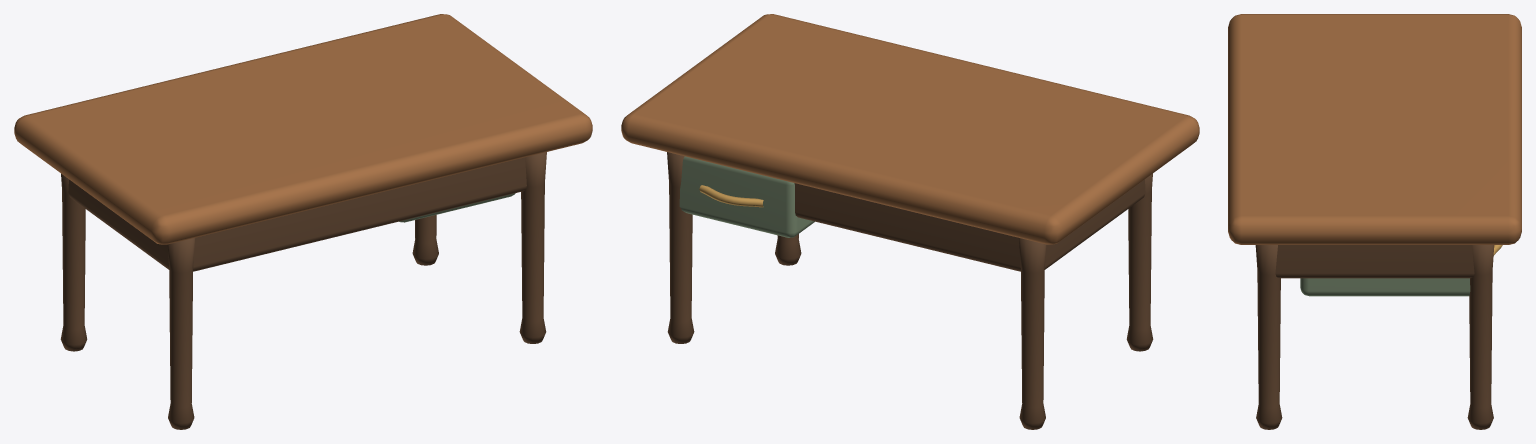
Rendered from desk.glb.
3 views of the same model, side by side, from view 1: azimuth 30°, elevation 25°; view 2: azimuth 150°, elevation 25°; view 3: azimuth 270°, elevation 25° (orthographic).
Visible parts, largest first — view 1: House_desk; view 2: House_desk; view 3: House_desk.
Part boxes in pixels (box(x1,y1,x2,y2)): House_desk: box(14, 14, 592, 429); House_desk: box(621, 14, 1199, 429); House_desk: box(1228, 14, 1521, 429).
Size of the model in its own units: 1.45 by 0.72 by 0.85.
